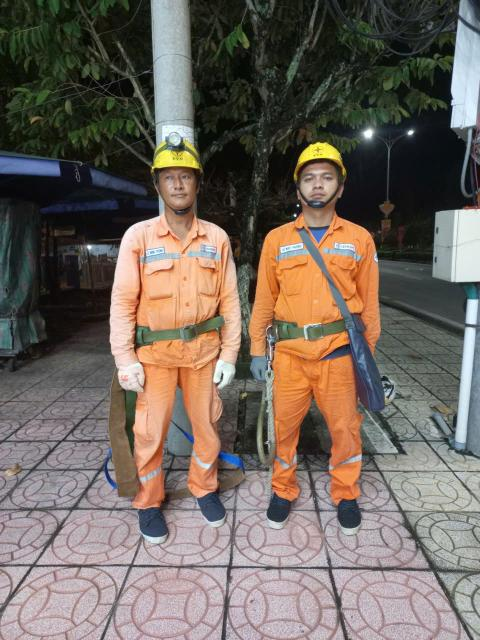gloves: (115, 363, 151, 400), (208, 351, 238, 392)
harness: (128, 311, 237, 355), (266, 311, 351, 347)
helmet: (265, 124, 357, 187), (146, 121, 214, 179)
shoes: (128, 494, 174, 552), (252, 479, 295, 528), (187, 482, 229, 531), (330, 490, 367, 541)
